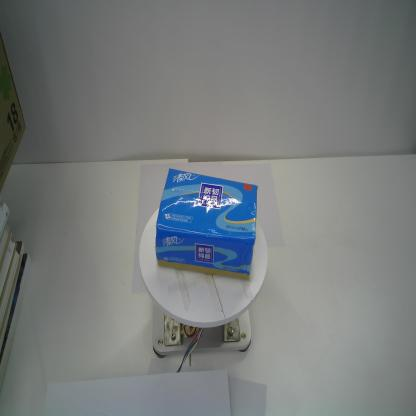Tissue: (155, 168, 259, 282)
